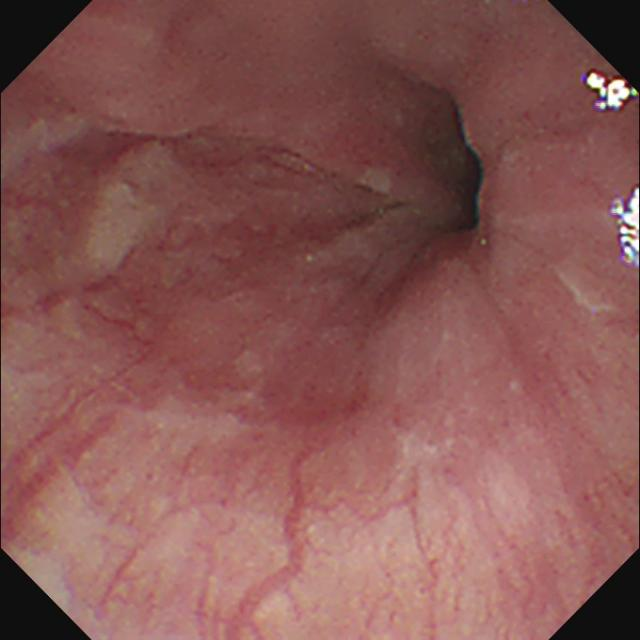A: (234, 143, 406, 262), (83, 117, 193, 175)
E: (435, 112, 487, 246)
J: (77, 148, 184, 269)
U: (611, 183, 640, 270), (583, 68, 639, 112)
